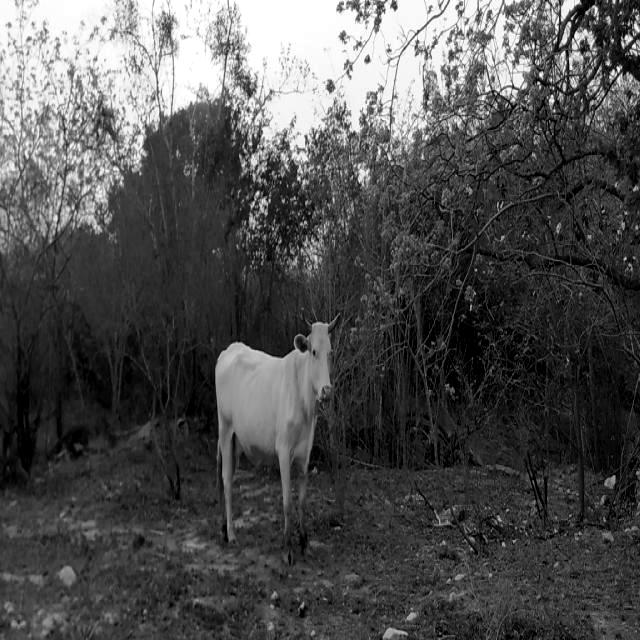COW: (215, 321, 334, 563)
